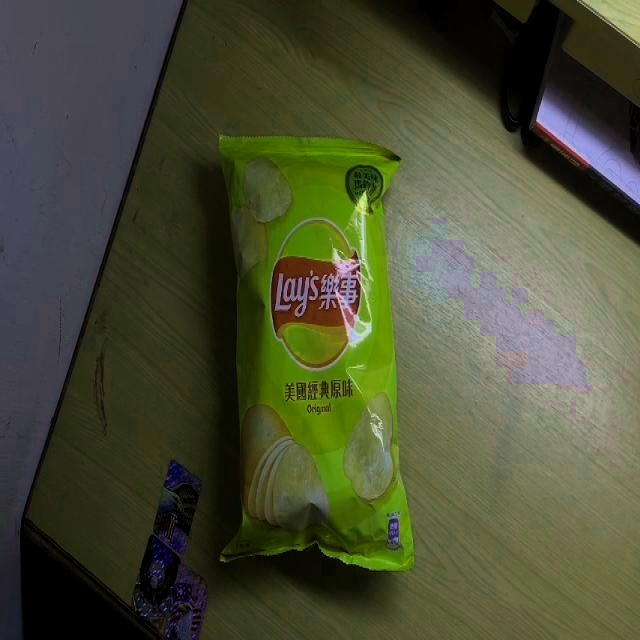Lay-s-original: (216, 132, 417, 567)
